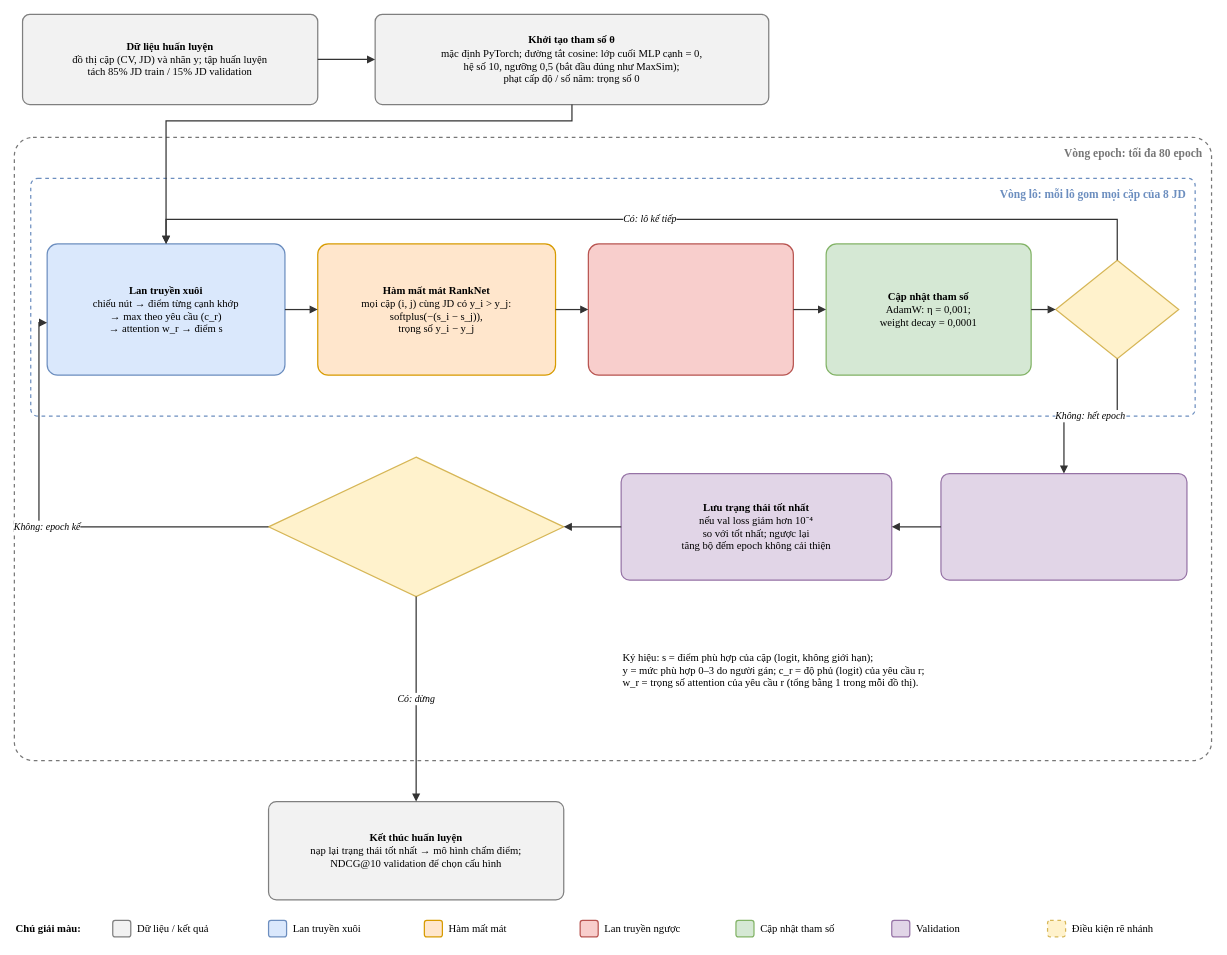
Some shapes in this 1227 by 955 pixel diagram are drawn without their labels. Here are the shapes that lost their labels. From the top down, the centre of each, then its label:
At (x=690, y=309): "Lan truyền ngược tính gradient của L theo θ".
At (x=1117, y=309): "Còn lô?".
At (x=416, y=526): "Dừng sớm? 12 epoch liên tiếp không cải thiện hoặc đã đủ 80 epoch".
At (x=1063, y=526): "Đánh giá validation val loss (RankNet) trên toàn bộ tập validation".
